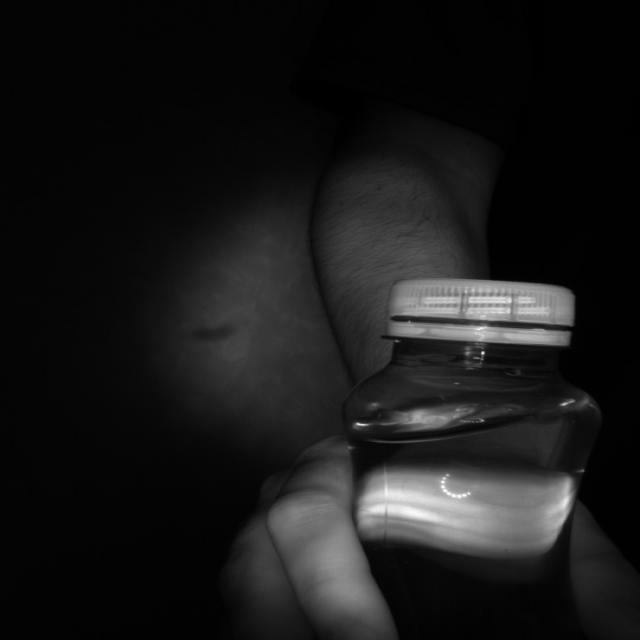Not Good: (385, 276, 572, 348)
